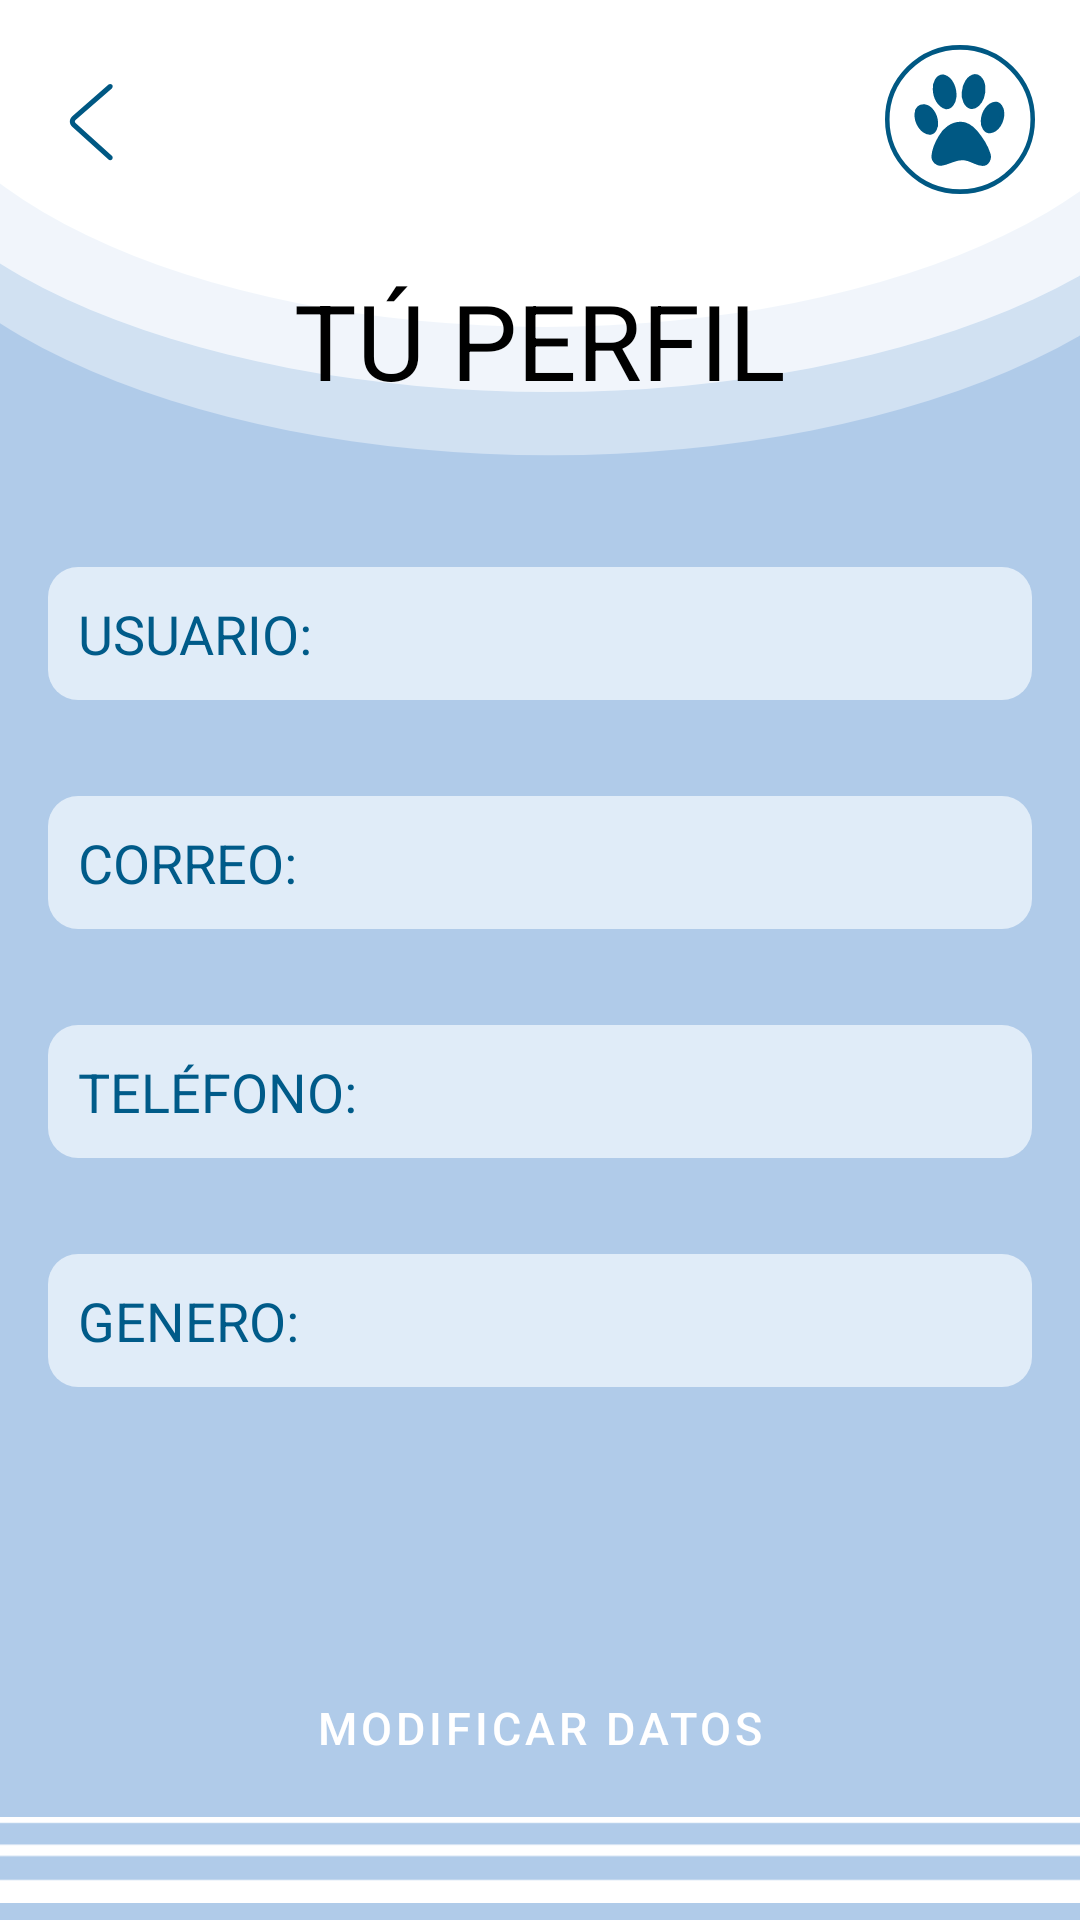

Where to tap for icons on this 1080px x 1920px app screen, as (x=x, y=y):
Botón de atrás: (x=91, y=122)
Ícono de mascotas: (x=960, y=119)
